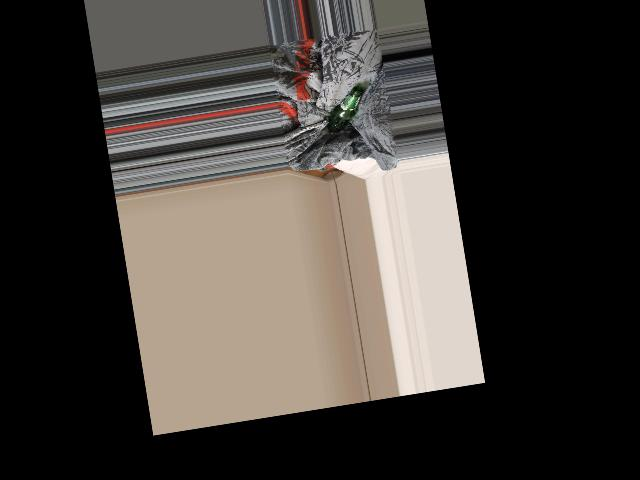beer: (322, 84, 368, 133)
